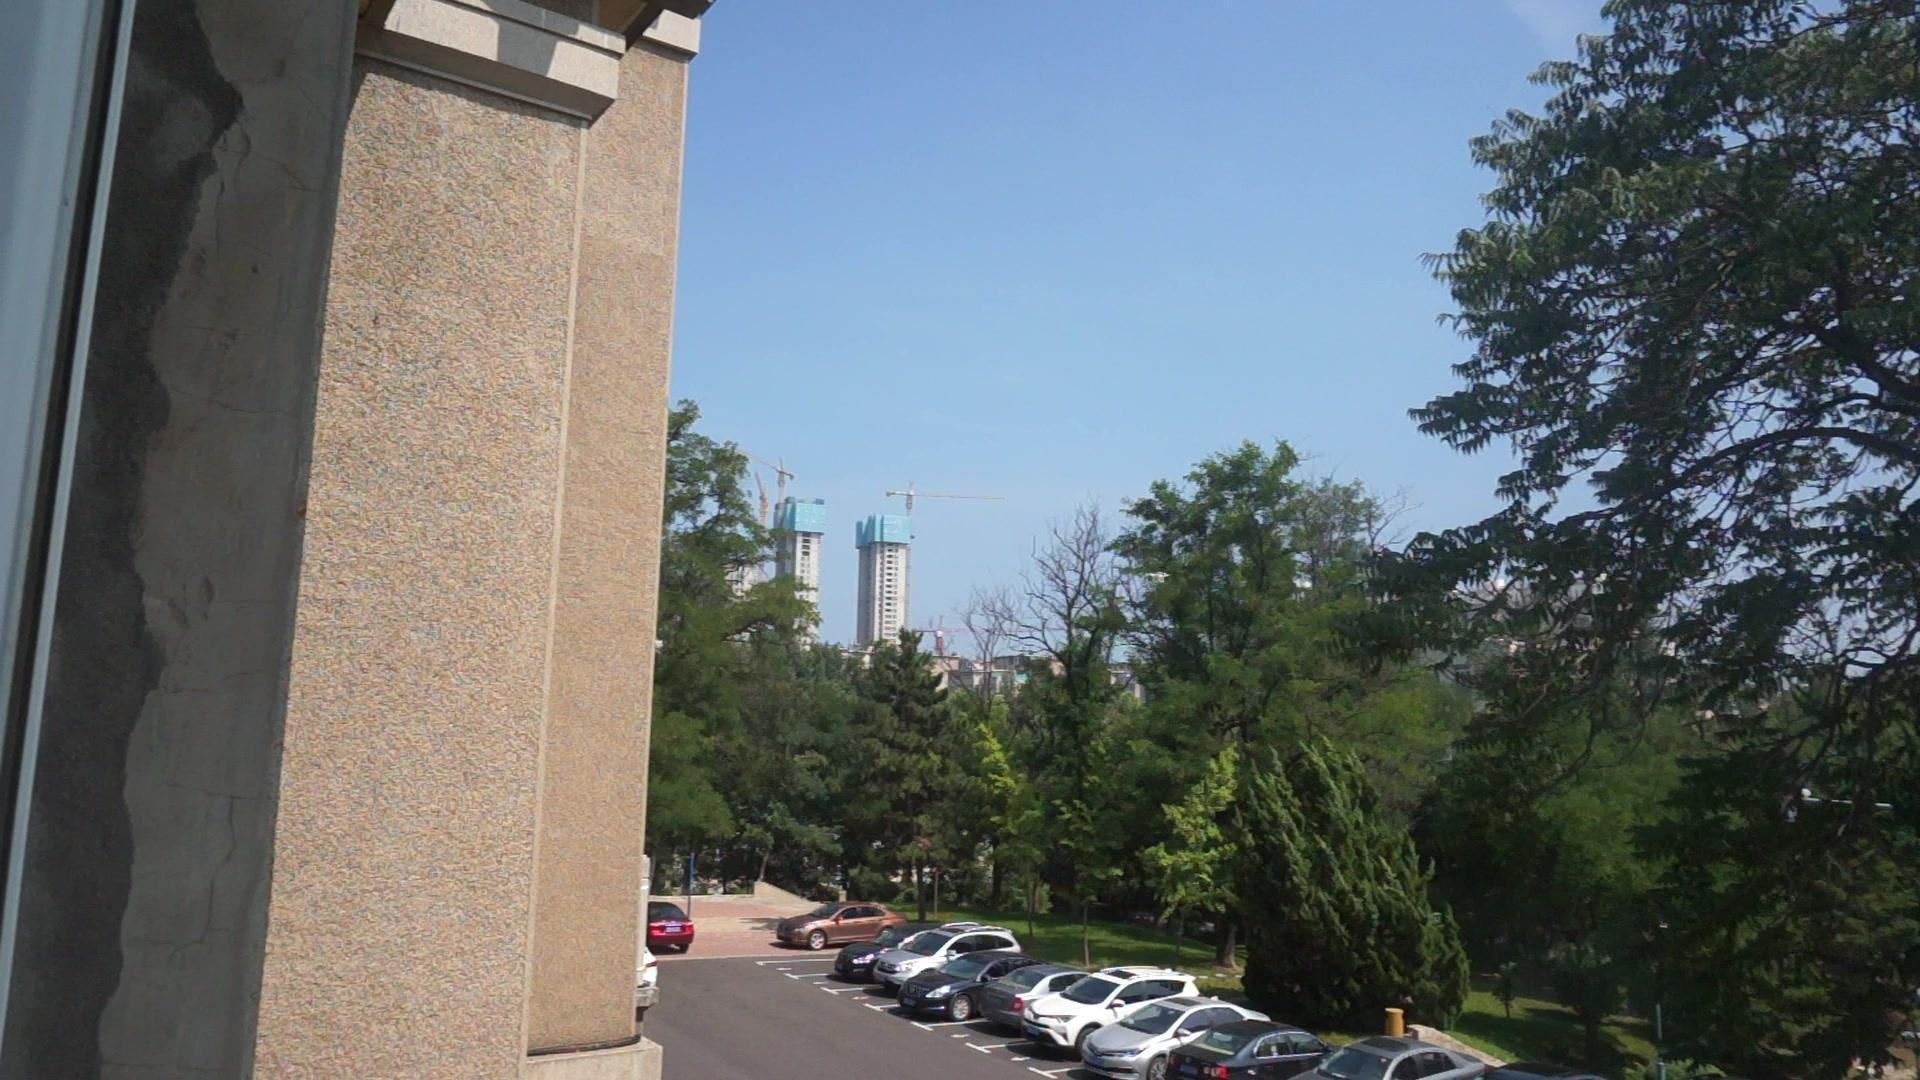UAV: (1145, 572, 1172, 584)
